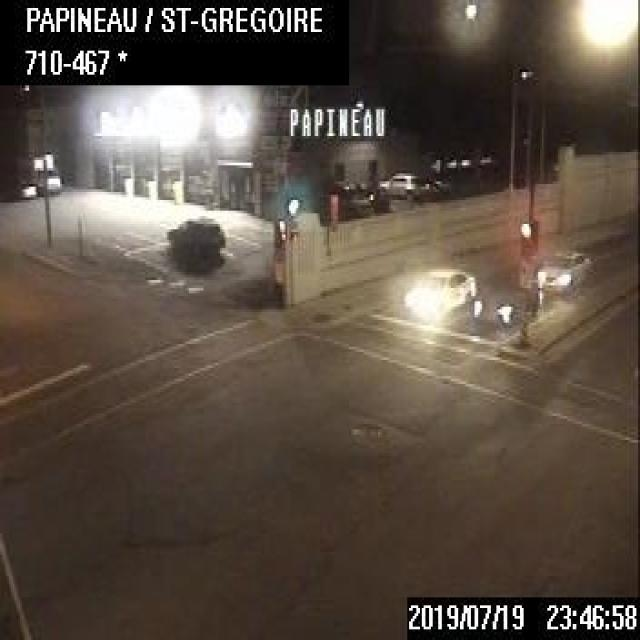vehicle: (402, 264, 476, 318), (536, 246, 587, 295), (166, 214, 223, 251), (377, 169, 422, 199), (30, 167, 58, 194), (6, 174, 34, 199)
